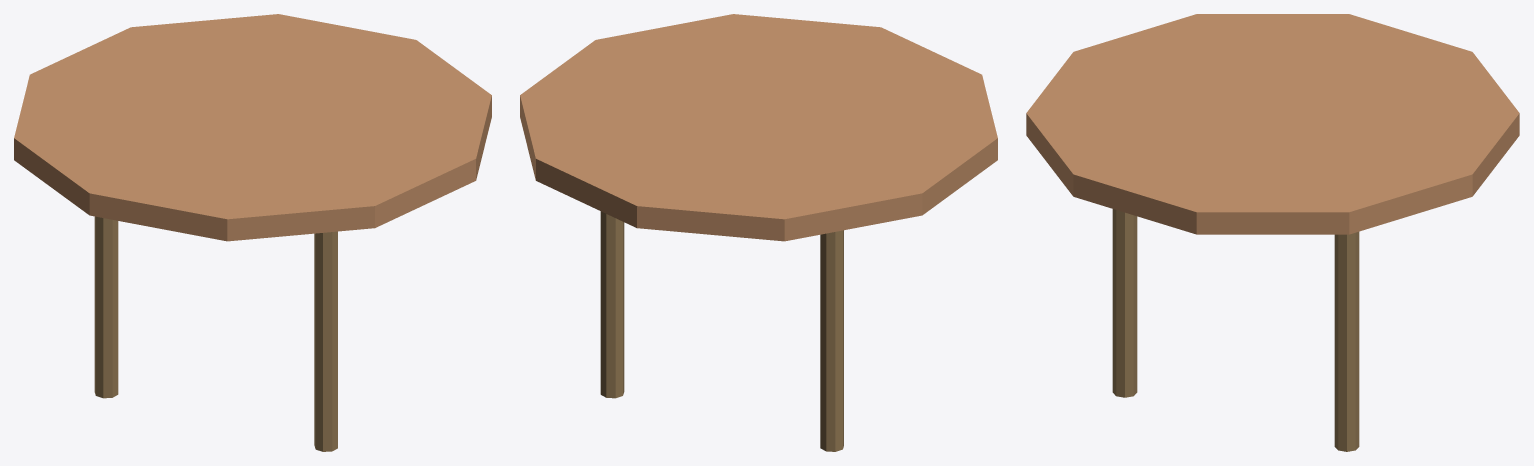
The model's file is coffee-table.glb.
The picture shows the model from 3 angles, left to right: view 1: azimuth 30°, elevation 25°; view 2: azimuth 150°, elevation 25°; view 3: azimuth 270°, elevation 25°; orthographic projection.
Visible parts, largest first — view 1: CoffeeTable; view 2: CoffeeTable; view 3: CoffeeTable.
Part boxes in pixels (x1,y1,x2,y2): CoffeeTable: (14,14,491,451); CoffeeTable: (520,14,997,451); CoffeeTable: (1026,14,1519,451).
Bounding box in the file's own units: 0.5706 × 0.375 × 0.6.
